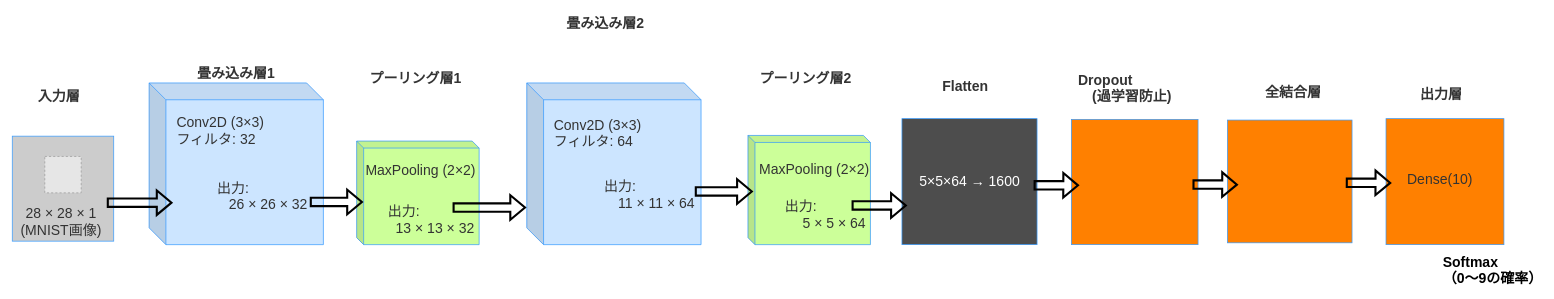
Image size: 1554x299. Some labels were removed from this diagram. Grey dashed boxes stand in for pictures. Here are the shapes that lost their labels. From the top down, the centre of each, then its label:
the point at 1134,182: rate = 0.5
the point at 1289,181: Dense(64)
